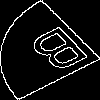B: (25, 25, 100, 82)
